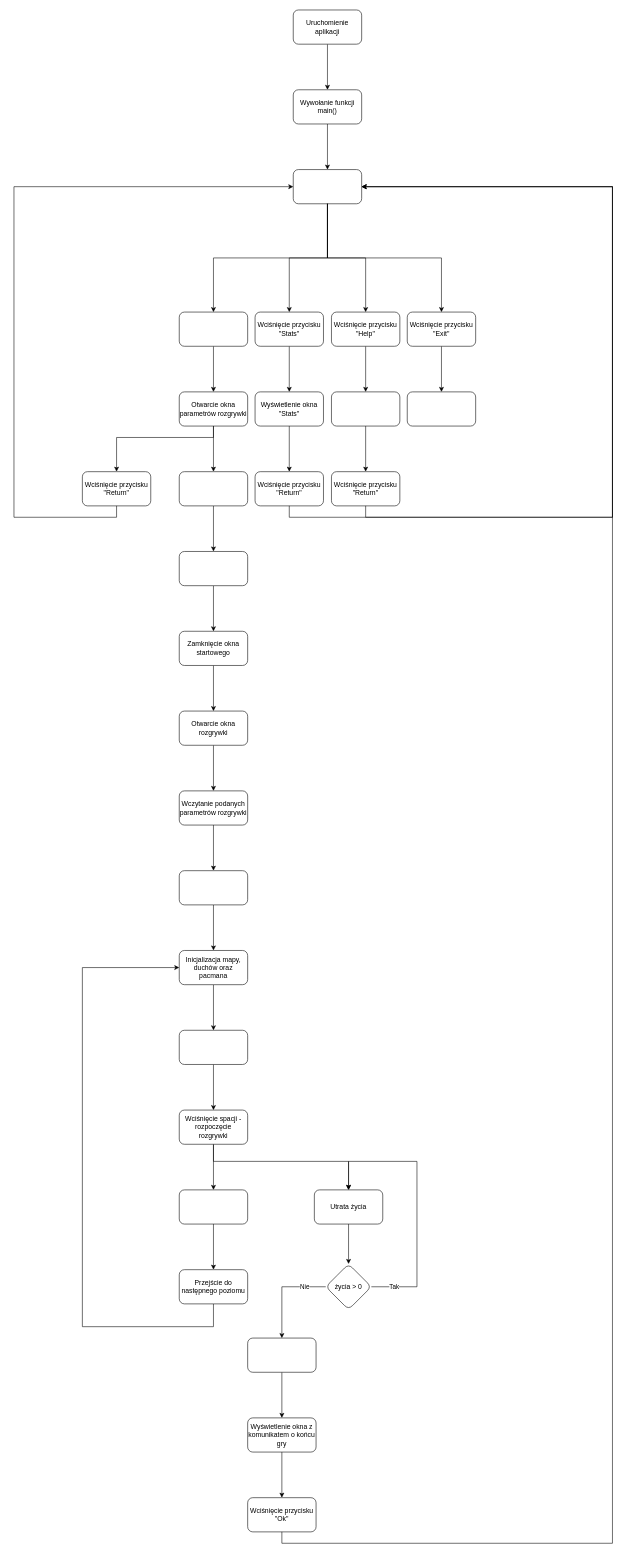
Image size: 627x1558. Some labels were removed from this diagram. The shapes that lost their labels are listed below. From the top down, each one's box as (x1, y1, x2, y2) in pixels, then its label:
(293, 169, 362, 204): Otwarcie okna startowego (menu gry)
(179, 312, 248, 346): Wciśnięcie przycisku "Start"
(331, 391, 400, 426): Wyświetlenie okna "Help"
(407, 391, 476, 426): Wyjście z gry
(179, 471, 248, 506): Konfiguracja rozgrywki
(179, 551, 248, 586): Wciśnięcie przycisku "Play"
(179, 870, 248, 905): Wczytanie potrzebnych grafik
(179, 1030, 248, 1064): Oczekiwanie na wciśnięcie spacji przez użytkownika
(179, 1189, 248, 1224): Zebranie wszystkich punktów na mapie
(247, 1338, 316, 1372): Koniec gry
